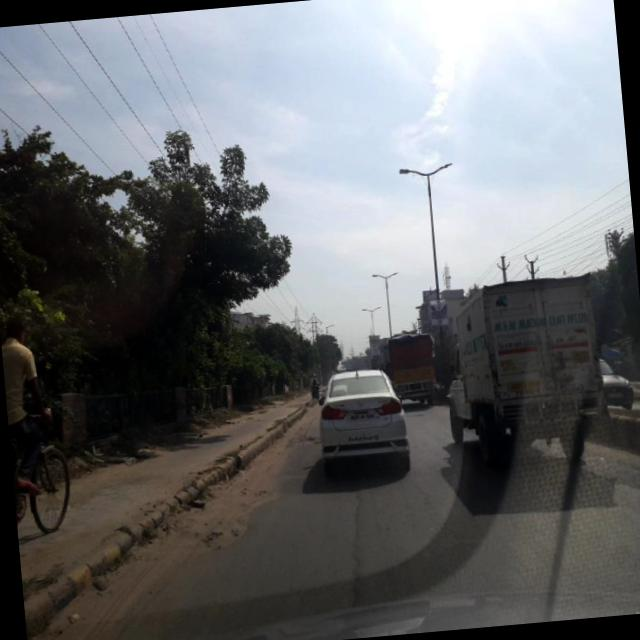crack: (332, 486, 368, 604)
pothole: (188, 504, 255, 554)
